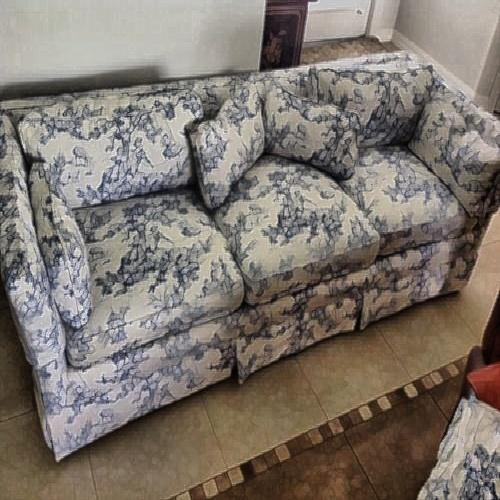sofa: (8, 87, 490, 382)
